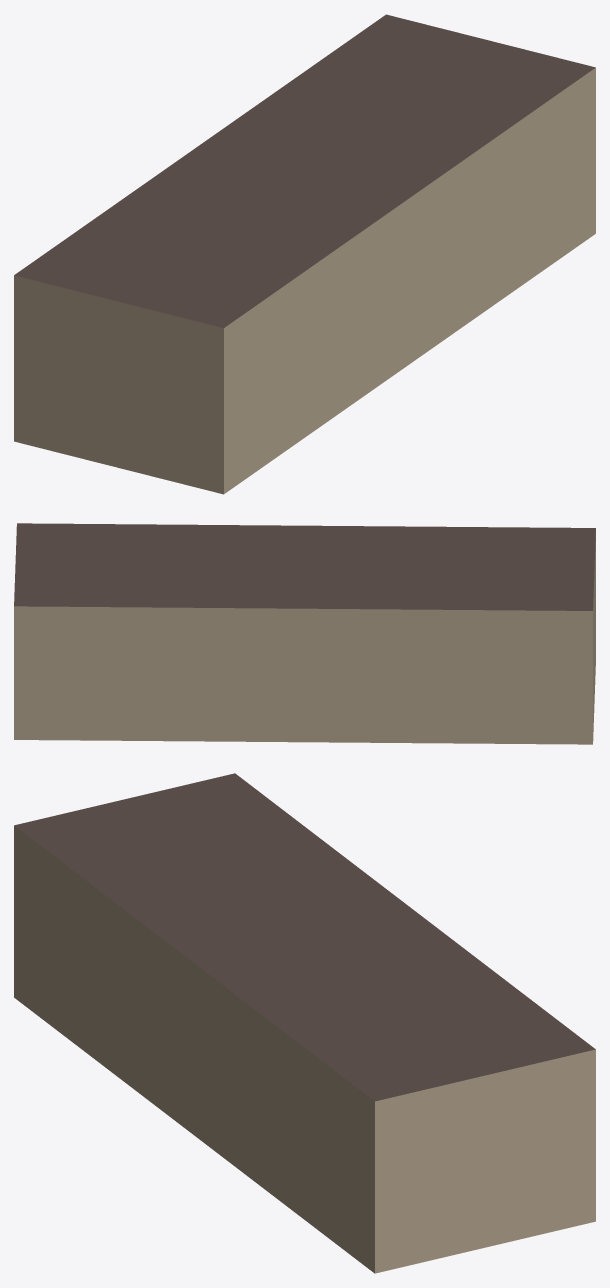
3 views of the same model, one above another, from view 1: azimuth 30°, elevation 25°; view 2: azimuth 150°, elevation 25°; view 3: azimuth 270°, elevation 25° (orthographic). The views are drawn at different scales.
Visible parts, largest first — view 1: HP-w859447939; view 2: HP-w859447939; view 3: HP-w859447939.
Part boxes in pixels (x1,y1,x2,y2): HP-w859447939: [14, 14, 595, 494]; HP-w859447939: [14, 523, 595, 744]; HP-w859447939: [14, 773, 595, 1273].
Bounding box in the file's own units: 36.8 × 9 × 27.57.
